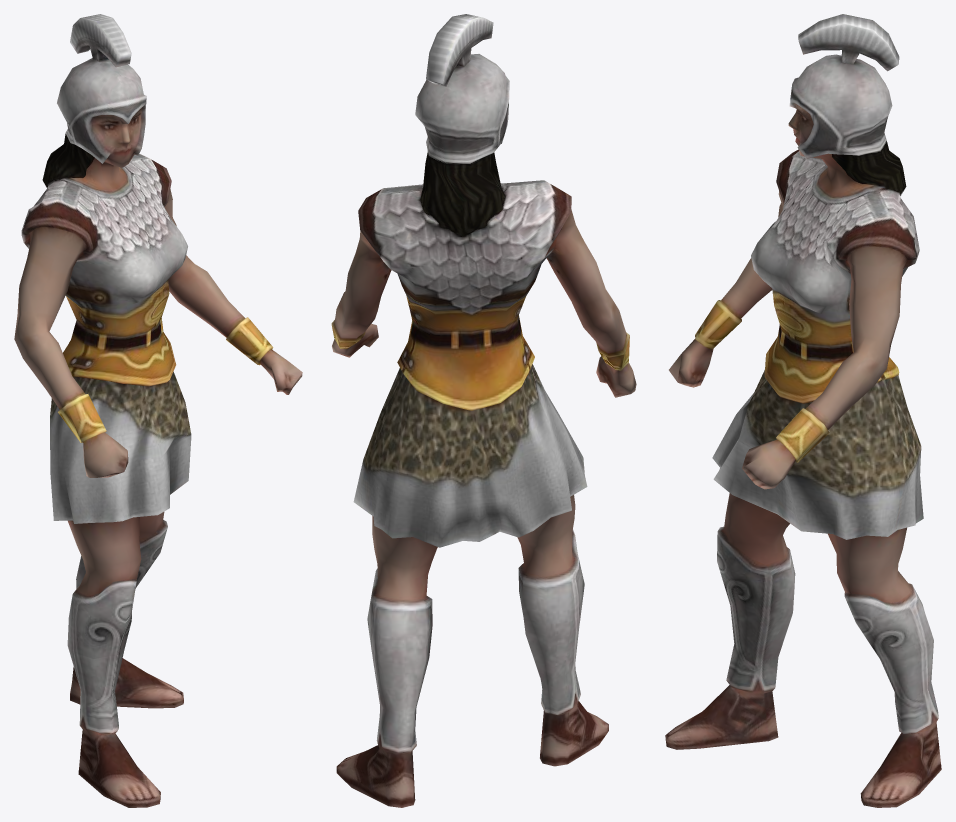
The model's file is 96-hippolyta.glb.
3 renders of one model, left to right at view 1: azimuth 30°, elevation 25°; view 2: azimuth 150°, elevation 25°; view 3: azimuth 270°, elevation 25°, orthographic. The views are drawn at different scales.
Size of the model in its own units: 0.9327 by 2.33 by 0.7857.
1 material, 1 textured.
